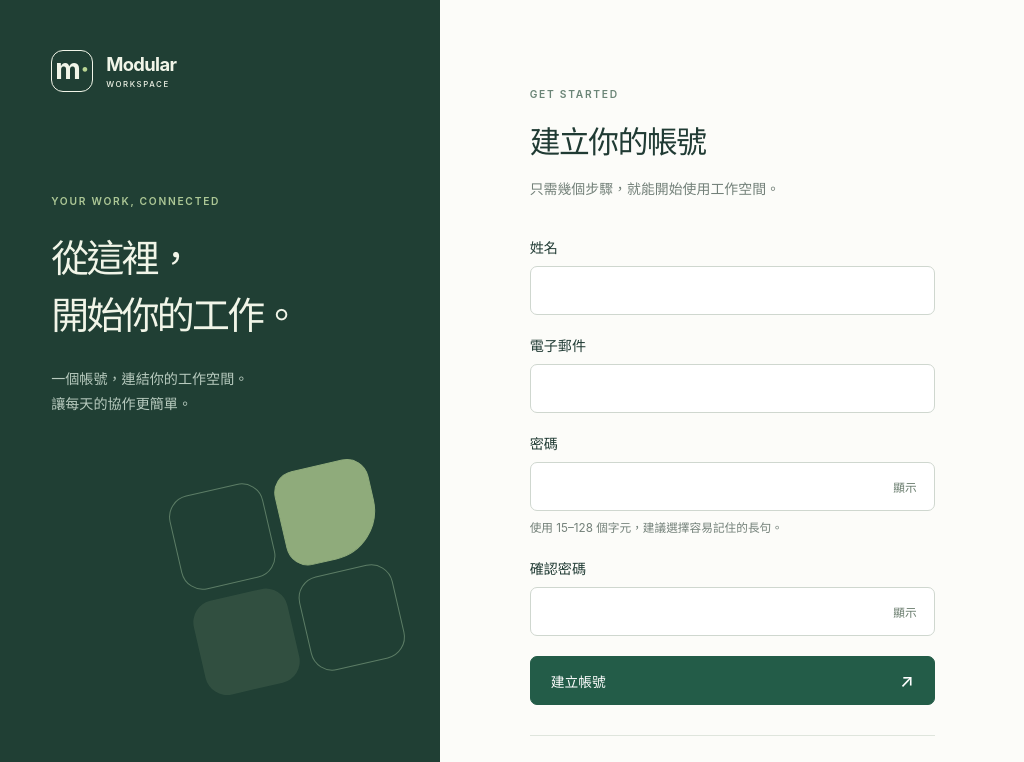
Test: shows a field error and does not register when password confirmation differs
Type "小林" into the field labelled "姓名" at (732, 290), box [530,266,935,315]
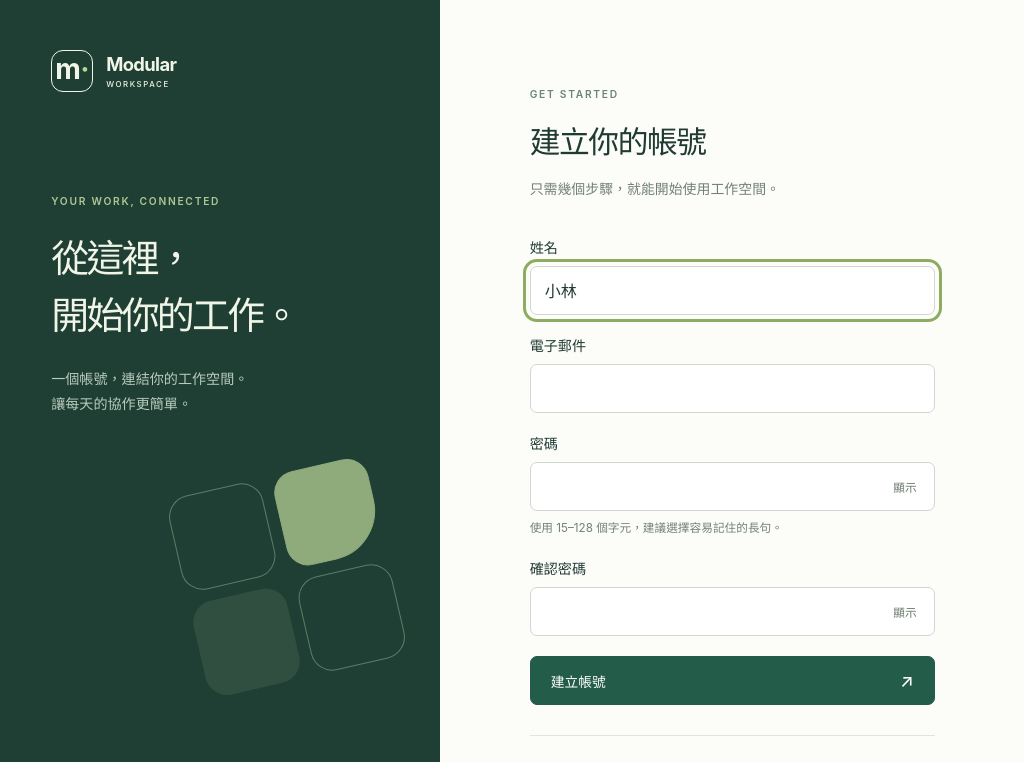
Type "lin@example.com" into the field labelled "電子郵件" at (732, 388), box [530,364,935,413]
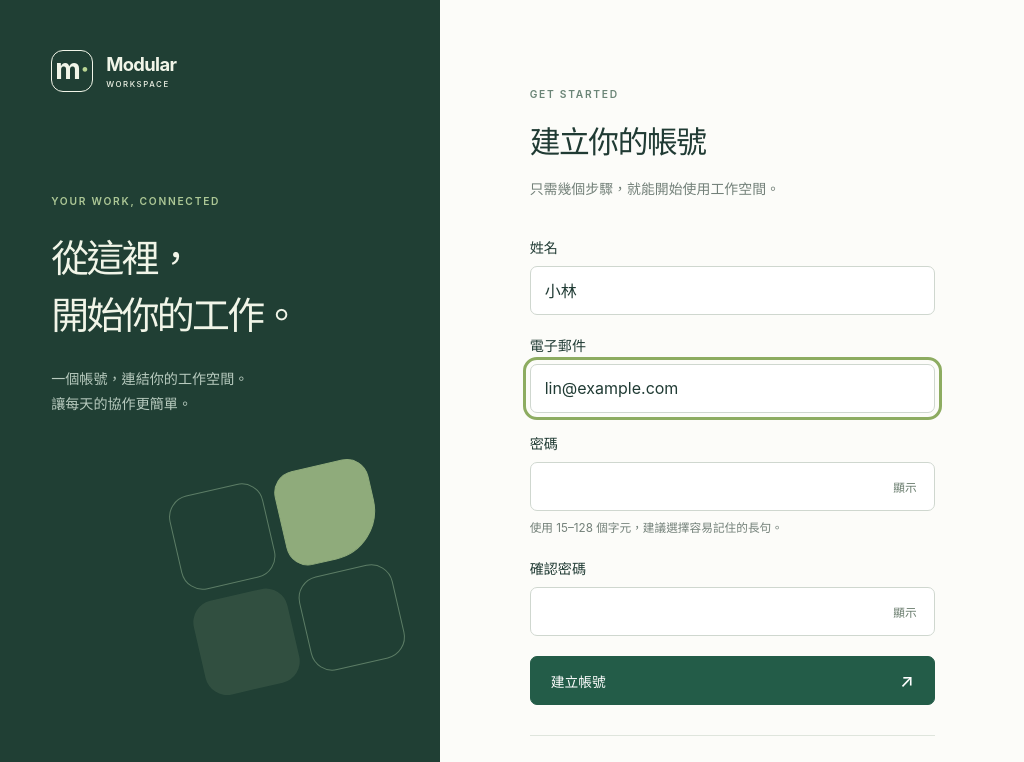
Type "a long enough password" into the password field labelled "密碼" at (732, 486), box [530,462,935,511]
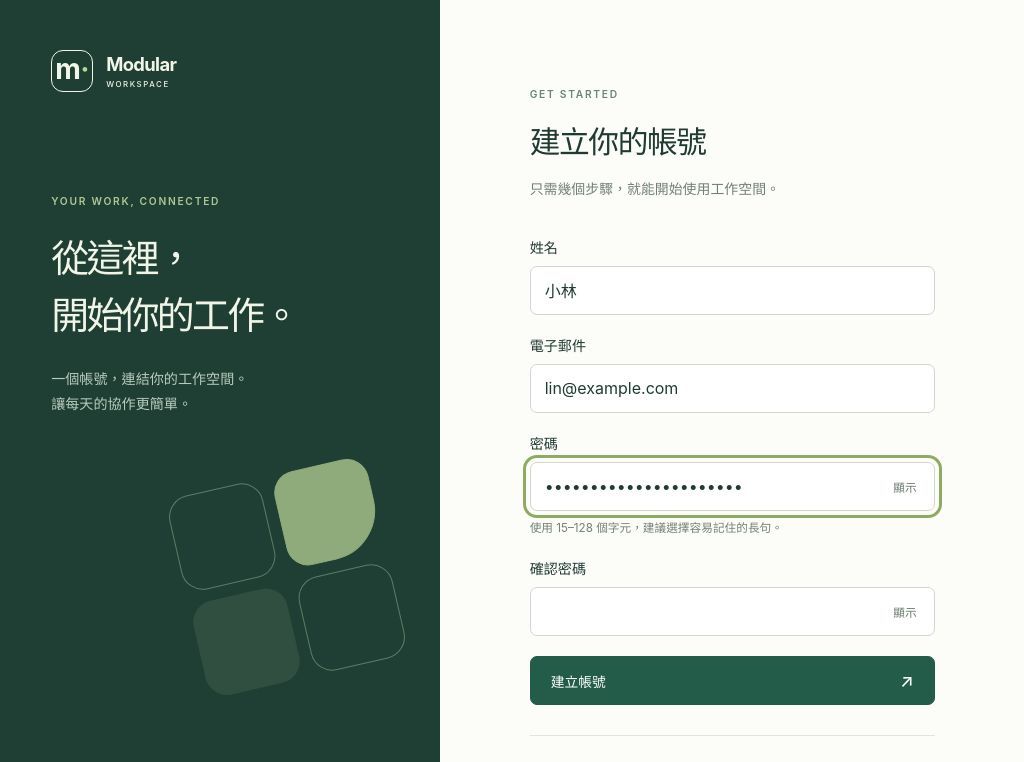
Type "a different long password" into the password field labelled "確認密碼" at (732, 612), box [530,587,935,636]
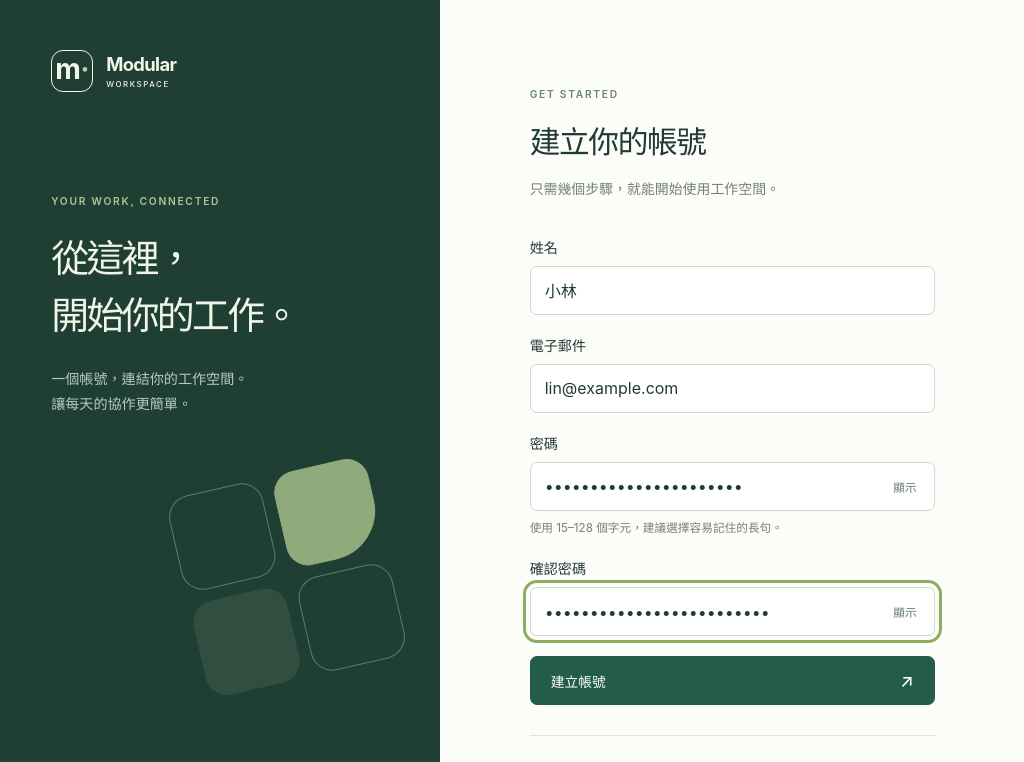
Click the button "建立帳號 ↗" at (578, 682), box [530,656,935,705]
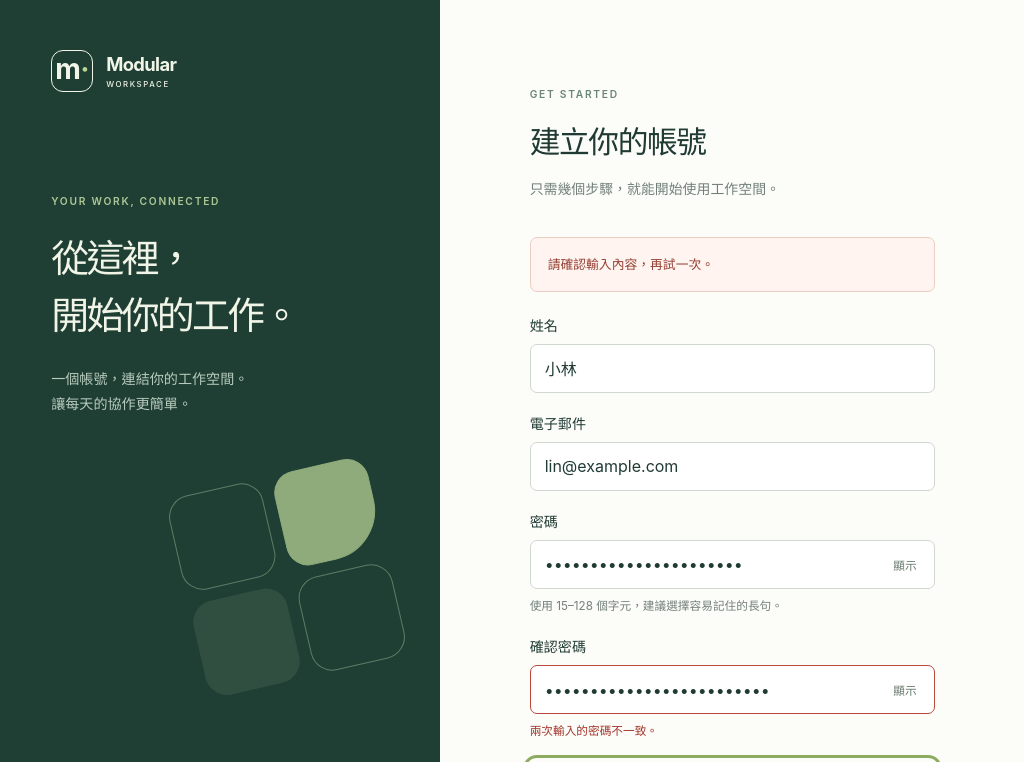
Expected: the text "兩次輸入的密碼不一致。" is shown, [530,724,658,738]
